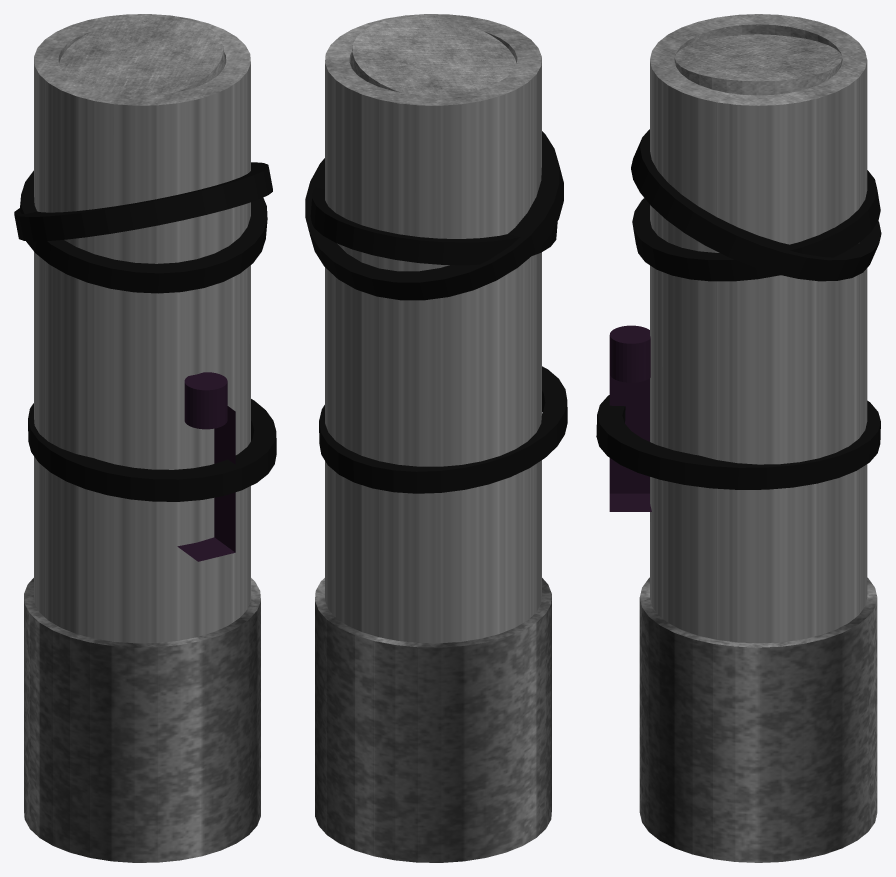
Rendered from pipebomb.glb.
3 renders of one model, left to right at view 1: azimuth 30°, elevation 25°; view 2: azimuth 150°, elevation 25°; view 3: azimuth 270°, elevation 25°, orthographic.
Parts seen in each view (by area): view 1: Cylinder; view 2: Cylinder; view 3: Cylinder.
Part boxes in pixels (x1,y1,x2,y2): Cylinder: (14, 14, 276, 862); Cylinder: (305, 14, 567, 862); Cylinder: (596, 14, 881, 862).
Bounding box in the file's own units: 1.68 × 5.46 × 1.84.
4 materials, 2 textured.
